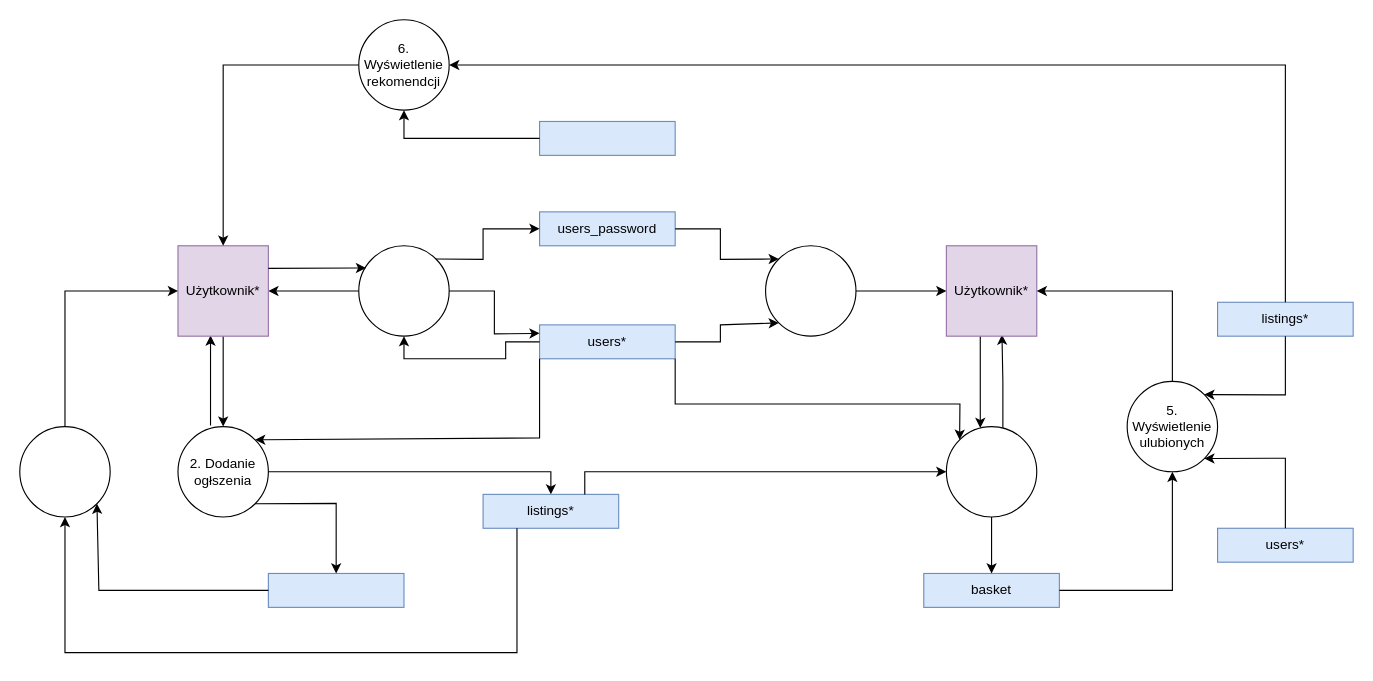
This 1373x681 diagram has some shape labels left out. The shapes that lost their labels are listed below. From the top down, each one's centre as x and y in pixels, then its label:
At (x=606, y=137): "categories".
At (x=403, y=290): "1. Rejestracja".
At (x=810, y=290): "4. Logowanie".
At (x=64, y=471): "7. Wyświetlenie dostępnych ogłoszeń".
At (x=991, y=471): "3. Dodanie do ulubionych".
At (x=335, y=589): "listings_photos".
